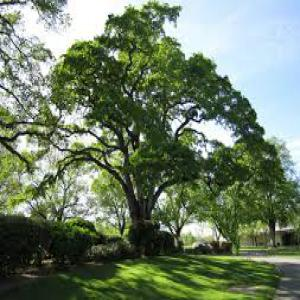Tree: (46, 2, 285, 254)
